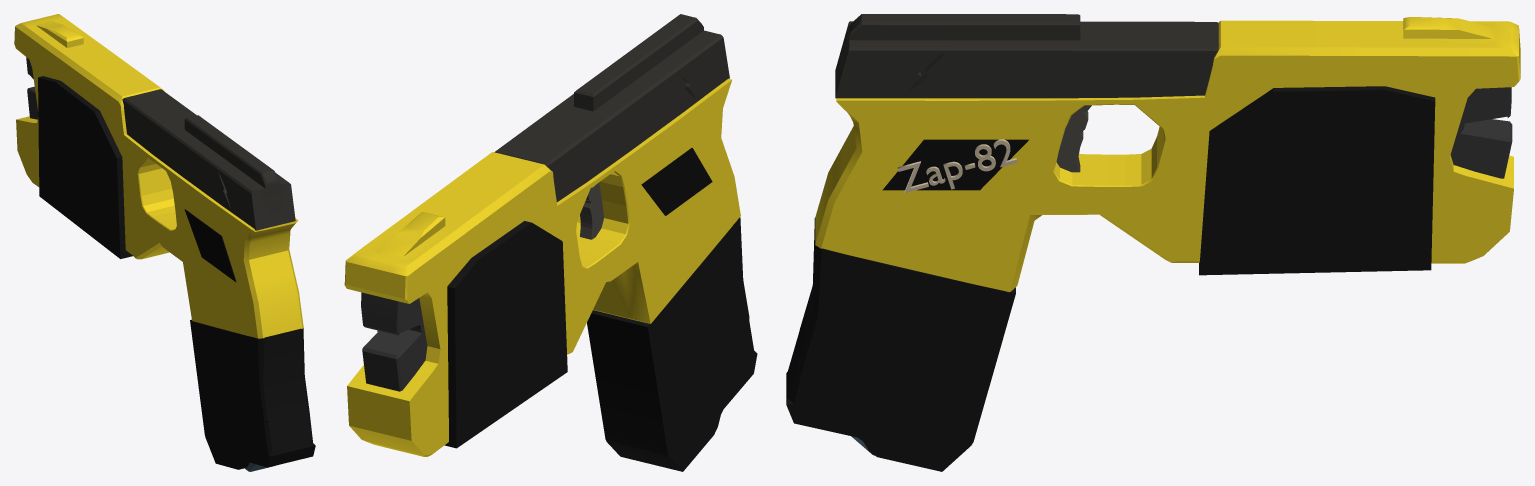
File: Tazer_and_Battery.fbx
The picture shows the model from 3 angles, left to right: view 1: azimuth 30°, elevation 25°; view 2: azimuth 150°, elevation 25°; view 3: azimuth 270°, elevation 25°; orthographic projection. The views are drawn at different scales.
Parts seen in each view (by area): view 1: Body, Handle, Back Accent, Grip, Model Cube.002, Muzzle; view 2: Body, Handle, Grip, Back Accent, Muzzle, Model Cube.002, Trigger; view 3: Body, Grip, Handle, Back Accent, Muzzle, Model Cube.002, Zap-82, Trigger.
Boxes of the visible parts, x1,y1,x2,y2 form: Body: (14, 14, 303, 338); Handle: (190, 319, 315, 469); Back Accent: (122, 89, 295, 230); Grip: (38, 76, 132, 258); Model Cube.002: (184, 209, 236, 281); Muzzle: (26, 57, 38, 119); Body: (344, 78, 740, 456); Handle: (587, 217, 757, 471); Grip: (444, 221, 567, 448); Back Accent: (494, 14, 729, 201); Muzzle: (361, 292, 427, 391); Model Cube.002: (641, 148, 712, 215); Trigger: (580, 182, 603, 239); Body: (815, 17, 1520, 292); Grip: (1199, 86, 1435, 275); Handle: (786, 218, 1015, 471); Back Accent: (835, 14, 1218, 98); Muzzle: (1450, 87, 1512, 178); Model Cube.002: (882, 139, 1028, 190); Zap-82: (897, 139, 1017, 193); Trigger: (1056, 105, 1091, 172).
Bounding box in the file's own units: 49.68 × 256 × 389.
